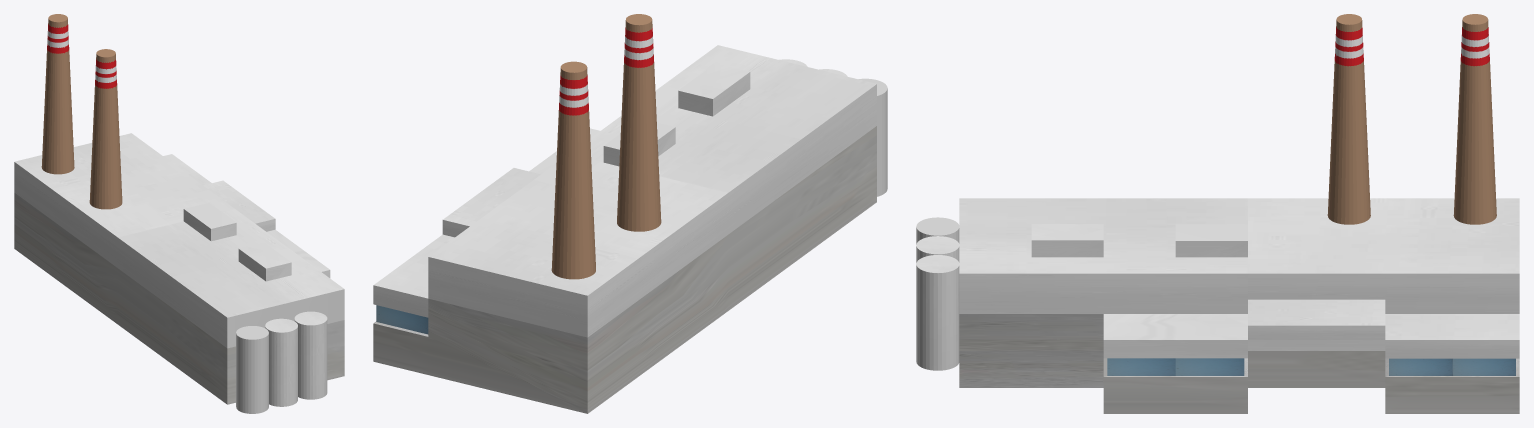
The model's file is factory 1.fbx.
The picture shows the model from 3 angles, left to right: view 1: azimuth 30°, elevation 25°; view 2: azimuth 150°, elevation 25°; view 3: azimuth 270°, elevation 25°; orthographic projection. The views are drawn at different scales.
Visible parts, largest first — view 1: Factory - Base, Smoke Stack, Smoke Stack.001, Cylinder, Cylinder.002, Cylinder.001; view 2: Factory - Base, Smoke Stack.001, Smoke Stack, Cylinder; view 3: Factory - Base, Smoke Stack.001, Smoke Stack, Cylinder.002, Cylinder, Cylinder.001.
Part boxes in pixels (x1,y1,x2,y2): Factory - Base: [14, 133, 344, 404]; Smoke Stack: [89, 49, 122, 209]; Smoke Stack.001: [41, 14, 74, 174]; Cylinder: [236, 326, 268, 413]; Cylinder.002: [294, 311, 327, 399]; Cylinder.001: [265, 318, 297, 406]; Factory - Base: [373, 45, 876, 413]; Smoke Stack.001: [551, 61, 595, 279]; Smoke Stack: [617, 14, 661, 231]; Cylinder: [858, 78, 887, 196]; Factory - Base: [959, 198, 1519, 413]; Smoke Stack.001: [1453, 14, 1496, 224]; Smoke Stack: [1327, 14, 1370, 224]; Cylinder.002: [916, 255, 959, 370]; Cylinder: [916, 217, 959, 244]; Cylinder.001: [916, 236, 959, 262].
Bounding box in the file's own units: 3732 × 5350 × 9399.
Materials: 1 (1 with a texture image).
